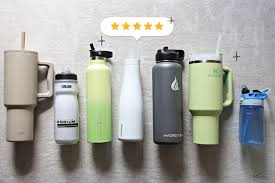bottles: (4, 32, 53, 140), (188, 50, 232, 144), (152, 46, 184, 143), (86, 43, 112, 142), (118, 58, 142, 140), (54, 68, 79, 144), (239, 85, 271, 144)
